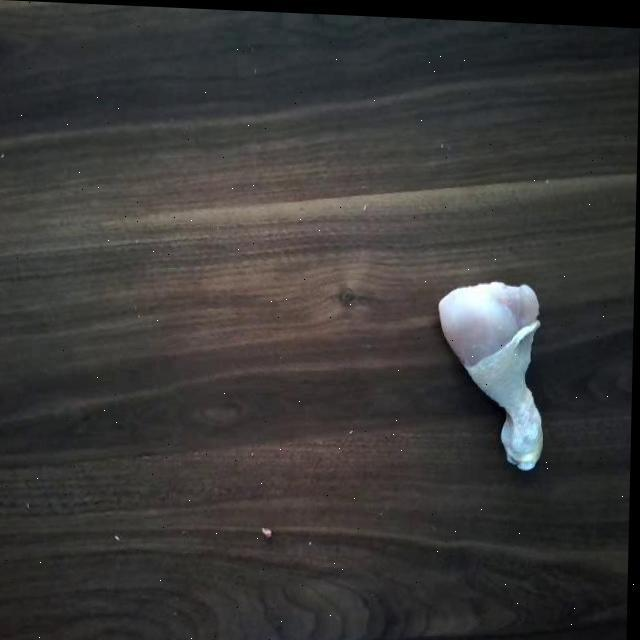leg: (428, 270, 552, 473)
